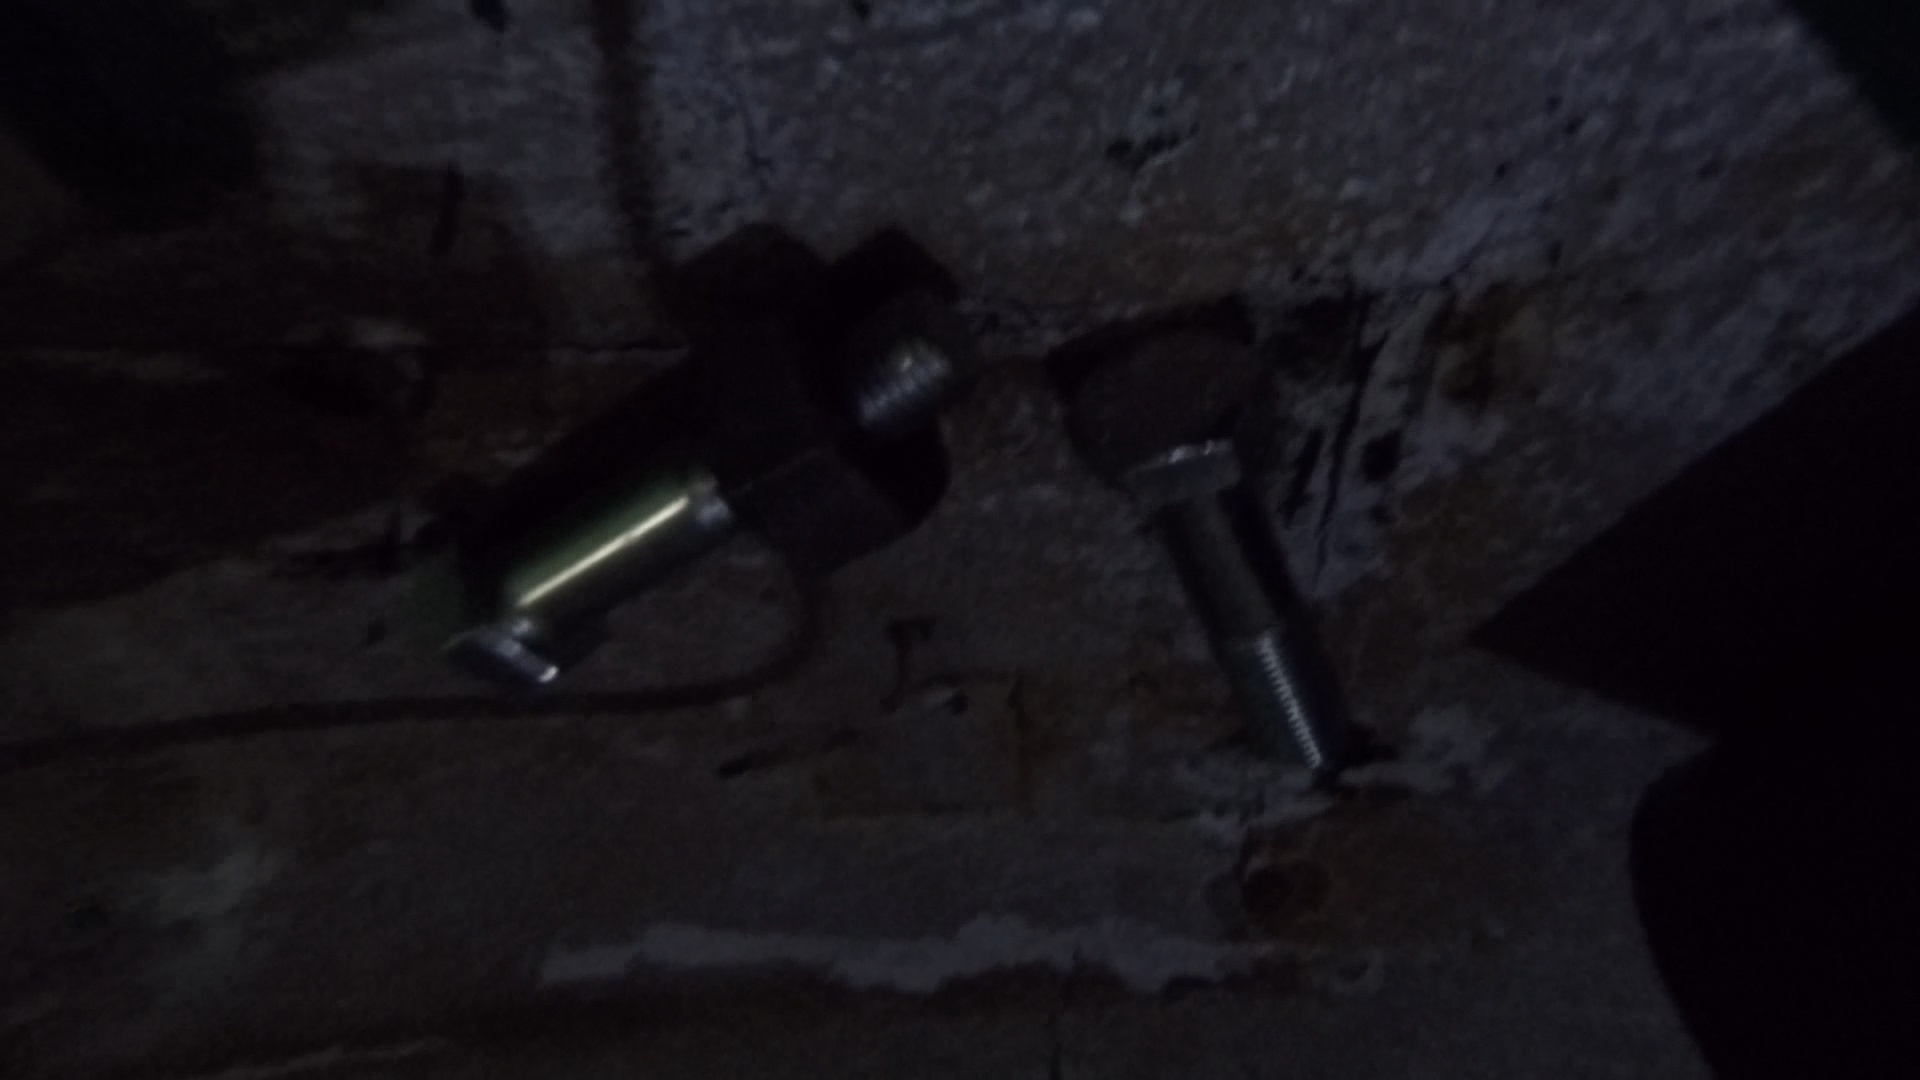bolt: (415, 286, 982, 707), (1065, 324, 1345, 775)
nut: (709, 274, 949, 578)
